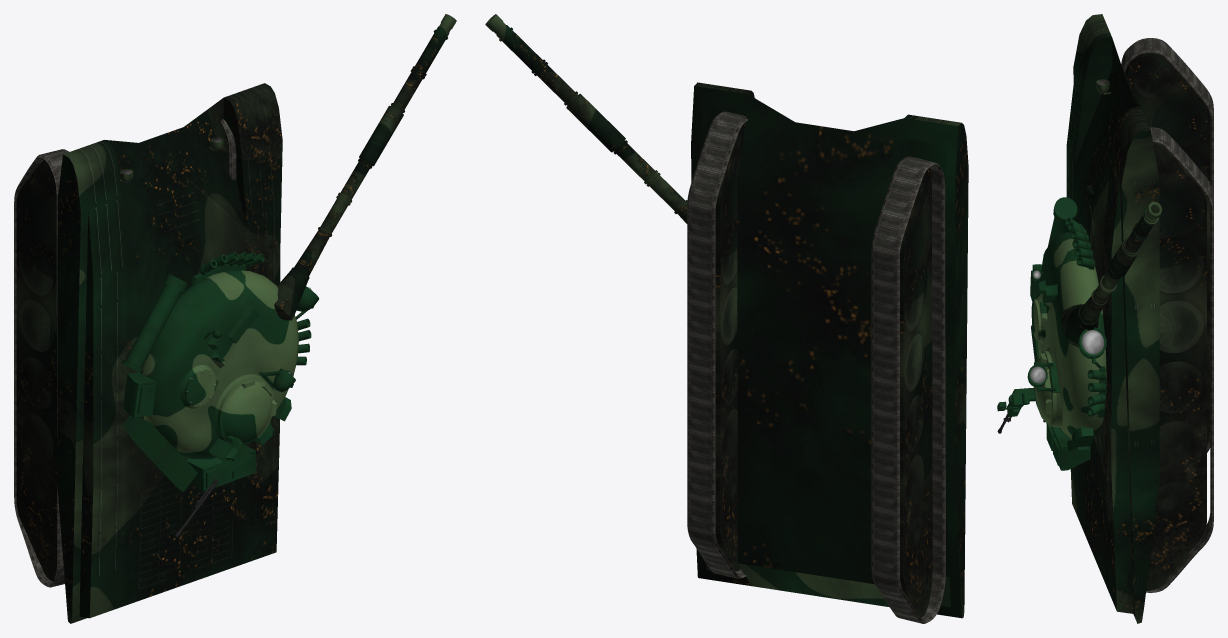
Rendered from T72Destruido.glb.
The picture shows the model from 3 angles, left to right: view 1: azimuth 30°, elevation 25°; view 2: azimuth 150°, elevation 25°; view 3: azimuth 270°, elevation 25°; orthographic projection. The views are drawn at different scales.
Parts seen in each view (by area): view 1: T72Destruido; view 2: T72Destruido; view 3: T72Destruido.
Boxes of the visible parts, <box> form: T72Destruido: <box>14,14,456,623</box>; T72Destruido: <box>485,14,968,623</box>; T72Destruido: <box>997,14,1213,623</box>.
Size of the model in its own units: 6.66 by 7.41 by 2.82.
Materials: 3 (3 with a texture image).
